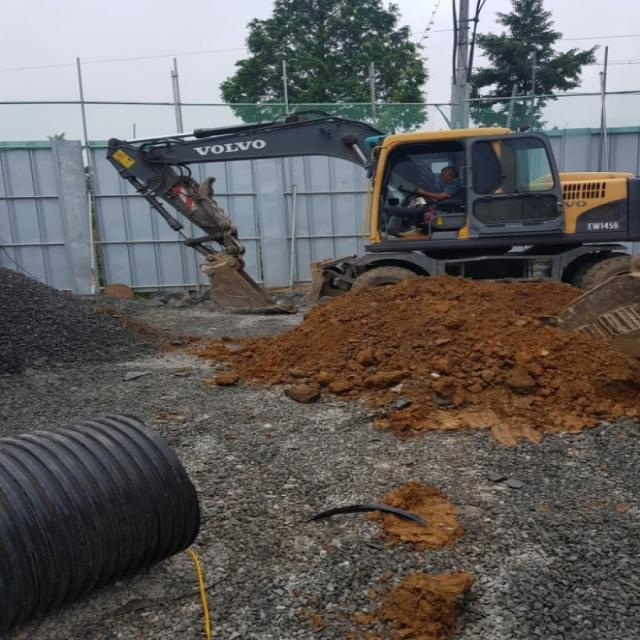excavator: (106, 110, 640, 316)
